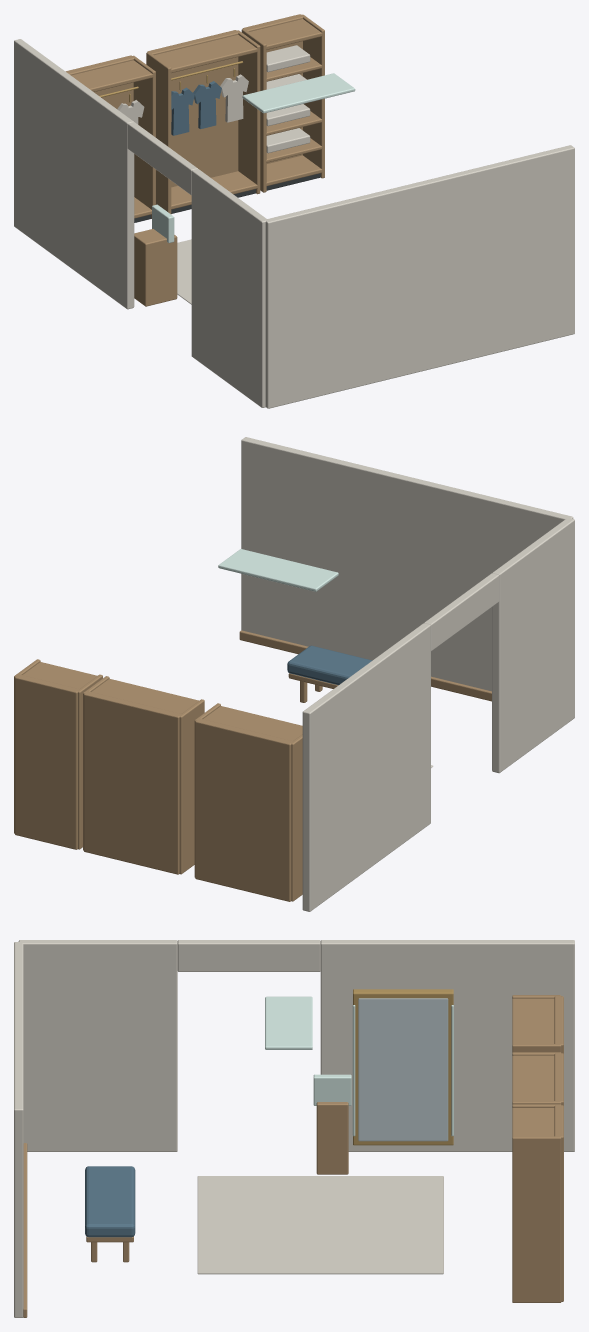
Rendered from wardrobe.glb.
3 views of the same model, one above another, from view 1: azimuth 30°, elevation 25°; view 2: azimuth 150°, elevation 25°; view 3: azimuth 270°, elevation 25° (orthographic). The views are drawn at different scales.
Parts seen in each view (by area): view 1: South acoustic partition, West divider north, West divider south, Wardrobe cabinet back.001, Console pedestal, Cabinet stile.003, Ceiling light, West opening header, Cabinet stile.001, Cabinet stile.002, Cabinet shelf.003, Cabinet stile.005 (+18 smaller); view 2: South acoustic partition, West divider north, West divider south, Wardrobe cabinet back, Wardrobe cabinet back.001, Wardrobe cabinet back.002, Cabinet stile.002, Ceiling light, West opening header, Fitting bench cushion, Cabinet stile, Cabinet shelf.003 (+4 smaller); view 3: West divider south, West divider north, Fitting rug, Mirror pane, Cabinet stile.005, West opening header, South acoustic partition, Fitting bench cushion, Mirror frame, Ceiling light, Console pedestal, Cabinet shelf.001 (+8 smaller).
Part boxes in pixels (x1,y1,x2,y2): South acoustic partition: (265, 145, 574, 408); West divider north: (14, 39, 134, 309); West divider south: (191, 169, 266, 407); Wardrobe cabinet back.001: (147, 30, 238, 187); Console pedestal: (134, 229, 177, 306); Cabinet stile.003: (237, 30, 260, 194); Ceiling light: (242, 73, 355, 113); West opening header: (127, 122, 197, 195); Cabinet stile.001: (132, 55, 155, 218); Cabinet stile.002: (146, 52, 171, 214); Cabinet shelf.003: (154, 34, 257, 72); Cabinet stile.005: (301, 14, 324, 178); South acoustic partition: (241, 437, 573, 691); West divider north: (302, 623, 430, 911); West divider south: (492, 518, 574, 773); Wardrobe cabinet back: (195, 718, 292, 901); Wardrobe cabinet back.001: (83, 691, 180, 874); Wardrobe cabinet back.002: (14, 674, 79, 849); Cabinet stile.002: (179, 699, 204, 874); Ceiling light: (218, 549, 338, 591); West opening header: (424, 573, 499, 651); Fitting bench cushion: (287, 645, 372, 685); Cabinet stile: (291, 734, 302, 901); Cabinet shelf.003: (92, 678, 198, 713); West divider south: (18, 940, 177, 1151); West divider north: (320, 940, 574, 1151); Fitting rug: (197, 1176, 443, 1274); Mirror pane: (358, 998, 448, 1141); Cabinet stile.005: (512, 1136, 561, 1302); West opening header: (177, 940, 320, 971); South acoustic partition: (14, 942, 23, 1317); Fitting bench cushion: (85, 1166, 135, 1237); Mirror frame: (353, 989, 453, 1145); Ceiling light: (265, 996, 312, 1049); Console pedestal: (316, 1102, 348, 1174); Cabinet shelf.001: (512, 998, 554, 1043).
Size of the model in its own units: 5.06 by 2.96 by 7.06.
